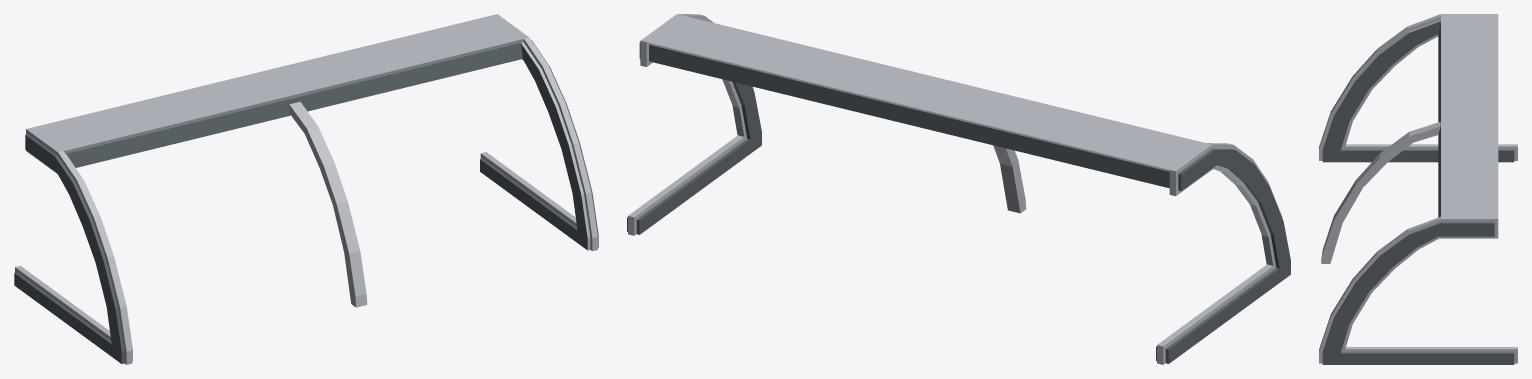
Rendered from SM_Prop_Kitchen_Counter_02_Top_01.obj.
3 views of the same model, side by side, from view 1: azimuth 30°, elevation 25°; view 2: azimuth 150°, elevation 25°; view 3: azimuth 270°, elevation 25° (orthographic). The views are drawn at different scales.
Visible parts, largest first — view 1: SM_Prop_Kitchen_Counter_02_Top_01_0; view 2: SM_Prop_Kitchen_Counter_02_Top_01_0; view 3: SM_Prop_Kitchen_Counter_02_Top_01_0.
Part boxes in pixels (x1,y1,x2,y2): SM_Prop_Kitchen_Counter_02_Top_01_0: (14, 14, 598, 364); SM_Prop_Kitchen_Counter_02_Top_01_0: (627, 14, 1290, 364); SM_Prop_Kitchen_Counter_02_Top_01_0: (1319, 14, 1517, 364).
Bounding box in the file's own units: 2.45 × 0.7959 × 0.9916.
Materials: 1 (1 with a texture image).
